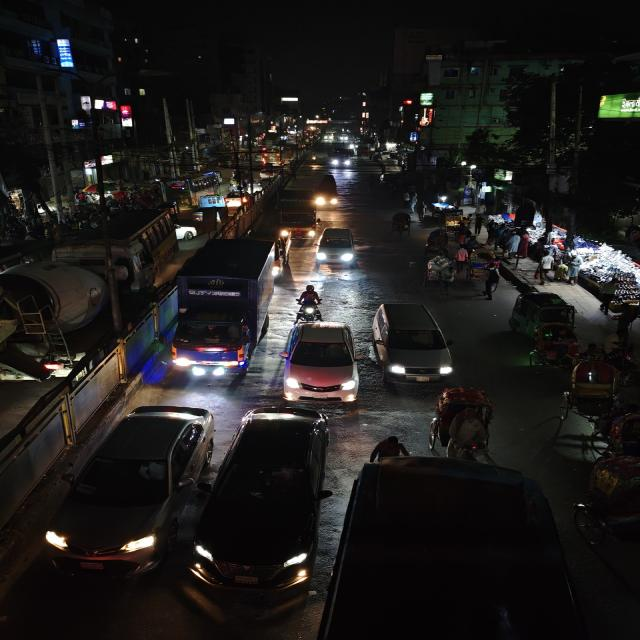bus: (318, 454, 571, 640), (98, 211, 170, 268), (161, 177, 220, 202)
car: (44, 401, 214, 589), (194, 404, 337, 600), (367, 298, 457, 386), (279, 320, 360, 404), (314, 226, 358, 270)
cng: (508, 290, 577, 337)
motorcycle: (295, 282, 325, 320)
pedestrian: (535, 250, 557, 284)
pickup_van: (193, 195, 228, 228)
rickshaw: (556, 356, 630, 462), (424, 384, 503, 464), (571, 454, 639, 546), (524, 323, 580, 373), (421, 253, 459, 293), (387, 210, 414, 240)
truck: (2, 242, 145, 365), (171, 234, 273, 380), (276, 198, 322, 238)
